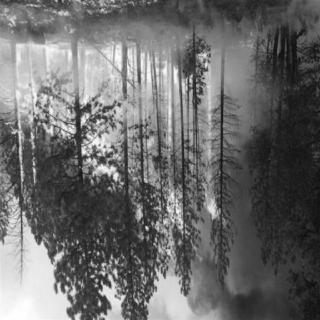Fire: (126, 197, 230, 281)
